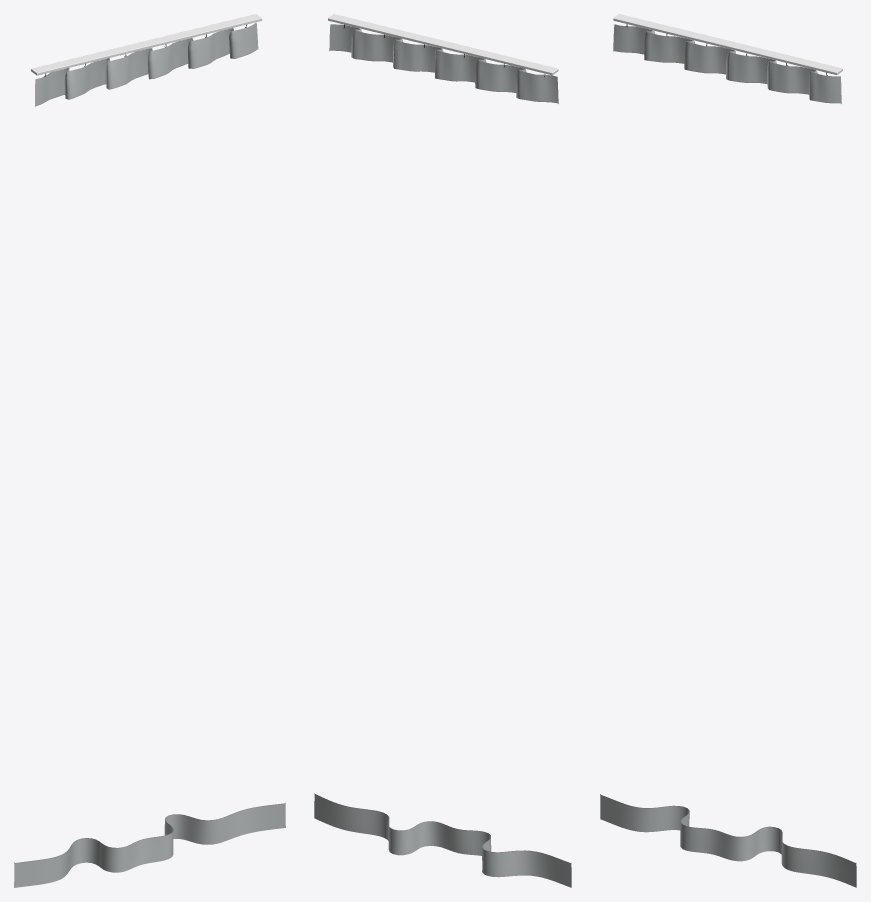
The model's file is curtain_01_03.001.fbx.
3 views of the same model, side by side, from view 1: azimuth 30°, elevation 25°; view 2: azimuth 150°, elevation 25°; view 3: azimuth 330°, elevation 25° (orthographic).
Visible parts, largest first — view 1: curtain_01_03.001; view 2: curtain_01_03.001; view 3: curtain_01_03.001.
Part boxes in pixels (bbox=[...]): curtain_01_03.001: bbox=[14, 14, 285, 887]; curtain_01_03.001: bbox=[314, 14, 571, 887]; curtain_01_03.001: bbox=[600, 14, 856, 887].
Size of the model in its own units: 76.39 by 224 by 10.51.
Materials: 1 (1 with a texture image).
